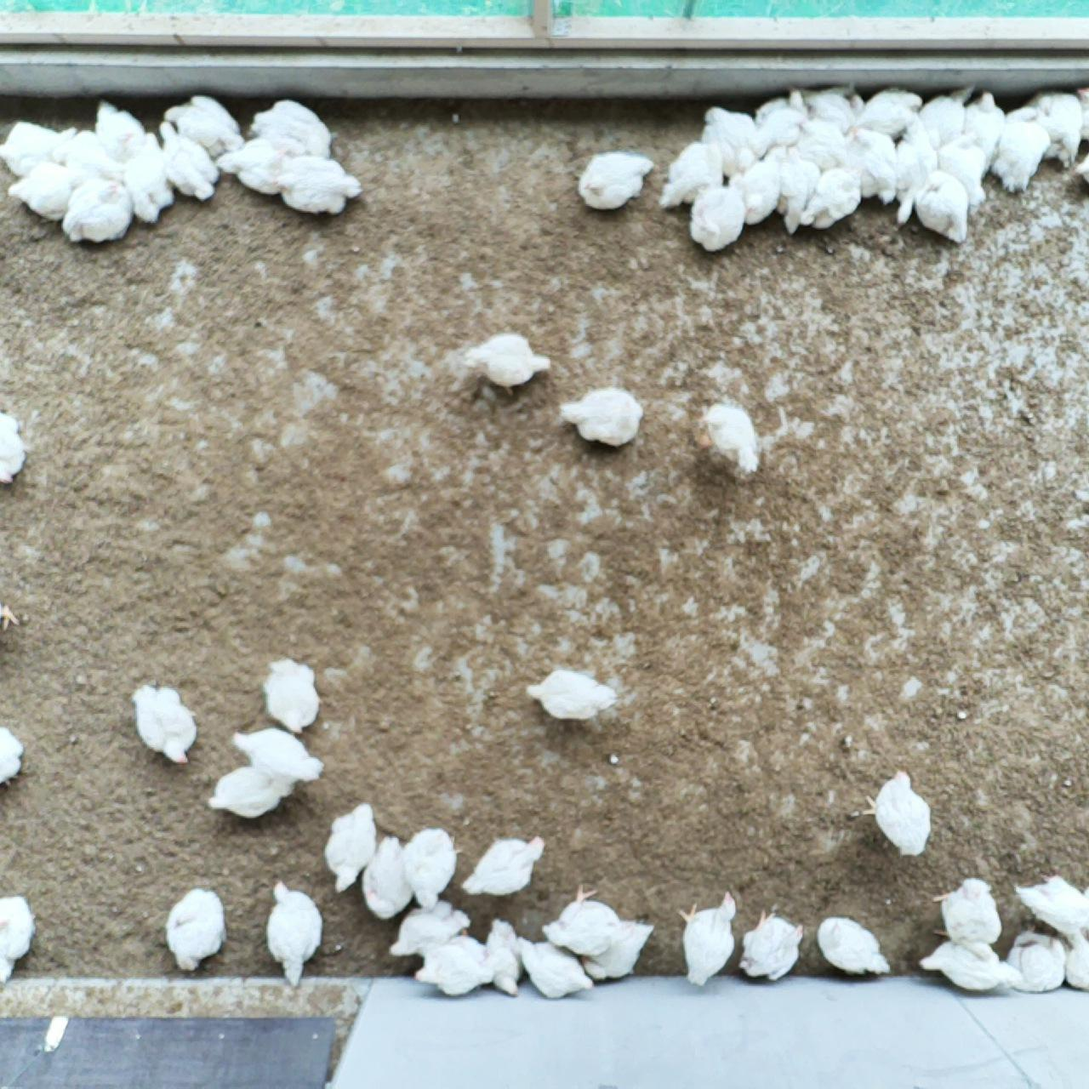chicken: (675, 888, 744, 989), (149, 117, 227, 204), (122, 132, 184, 241), (259, 878, 322, 985), (132, 678, 206, 769), (860, 767, 933, 859), (462, 326, 556, 396), (540, 882, 624, 960), (554, 381, 647, 450), (916, 936, 1021, 995), (396, 823, 461, 918), (164, 885, 228, 979), (987, 104, 1051, 197), (58, 170, 134, 247), (159, 92, 249, 157), (274, 155, 364, 219), (321, 797, 379, 896), (232, 724, 326, 785), (260, 654, 326, 740), (737, 907, 807, 986), (462, 833, 546, 898), (7, 156, 90, 221), (699, 393, 763, 477), (522, 665, 621, 719), (574, 917, 655, 983), (358, 831, 418, 919), (215, 132, 296, 197), (390, 896, 472, 960), (411, 935, 494, 998), (932, 877, 1004, 949), (208, 763, 300, 819), (250, 102, 338, 160), (513, 939, 594, 1002), (889, 116, 935, 225), (794, 161, 866, 230), (1009, 873, 1089, 935), (658, 138, 725, 212), (0, 116, 82, 175), (770, 143, 821, 236), (581, 148, 656, 211), (816, 915, 889, 978), (90, 100, 150, 173), (722, 149, 778, 226), (1005, 932, 1070, 998), (700, 107, 760, 178), (936, 126, 987, 209), (687, 184, 744, 258), (914, 170, 969, 245), (1028, 89, 1080, 166), (783, 117, 853, 174), (479, 915, 528, 995), (919, 84, 974, 155), (60, 129, 128, 186), (0, 892, 42, 984), (845, 129, 897, 202), (753, 90, 810, 155), (855, 86, 926, 137), (961, 90, 1001, 173), (0, 404, 34, 487), (804, 89, 869, 132), (1052, 922, 1089, 991), (0, 722, 29, 794), (1069, 151, 1089, 190), (1075, 84, 1089, 136)
